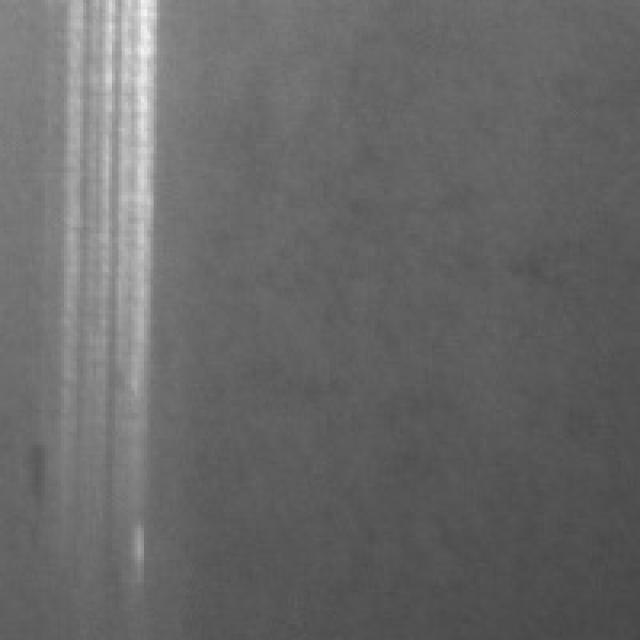scratches: (54, 0, 157, 576)
